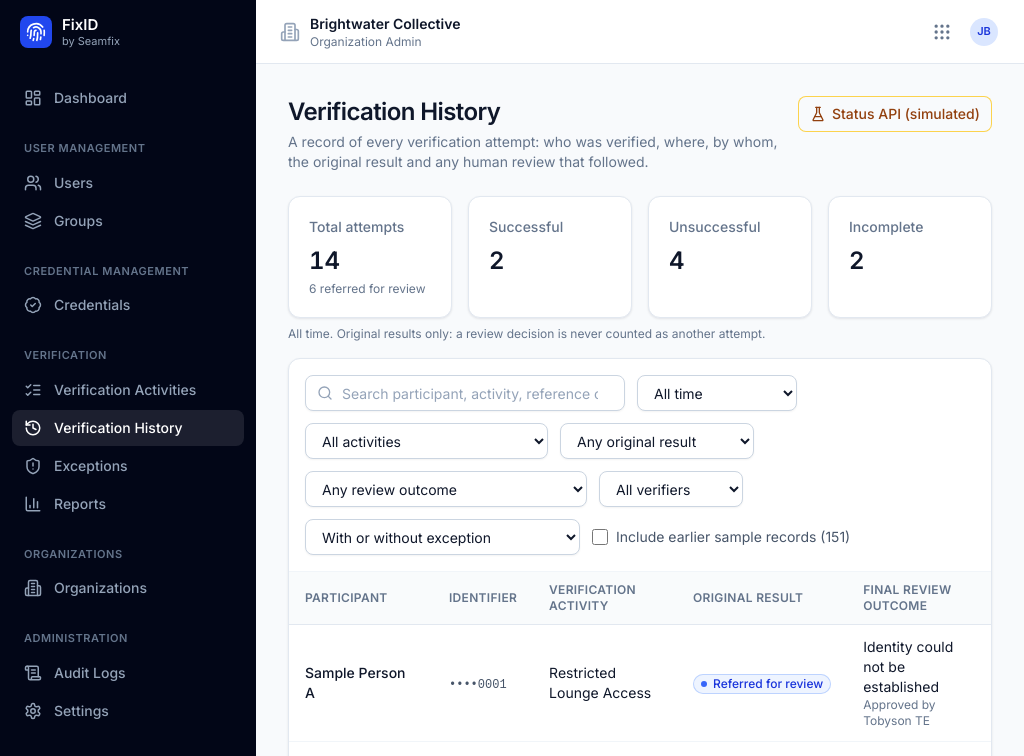
Scenario: Verification History screens › shows summary cards, the spec’s columns, and filters that keep the totals consistent
The image size is (1024, 756).
Later steps or results of the test are not shown.
Expected: the heading "Verification History" is shown, [288,97,500,126]
Expected: the text "Total attempts" is shown, [309,217,404,237]
Select "Restricted Lounge Access" in the dropdown named "Activity". click: [426, 441]
box: [305,423,548,459]
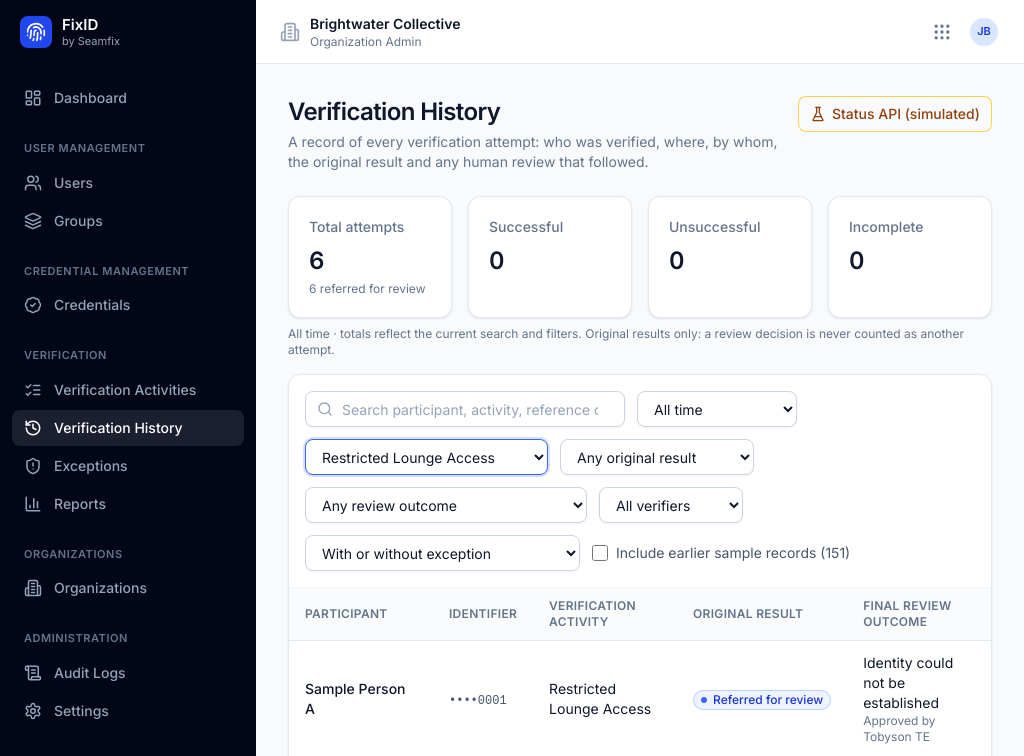
Result: the element named "Summary" reads "Total attempts 6 6 referred for review Successful 0 Unsuccessful 0 Incomplete 0" at [288,196,992,318]
